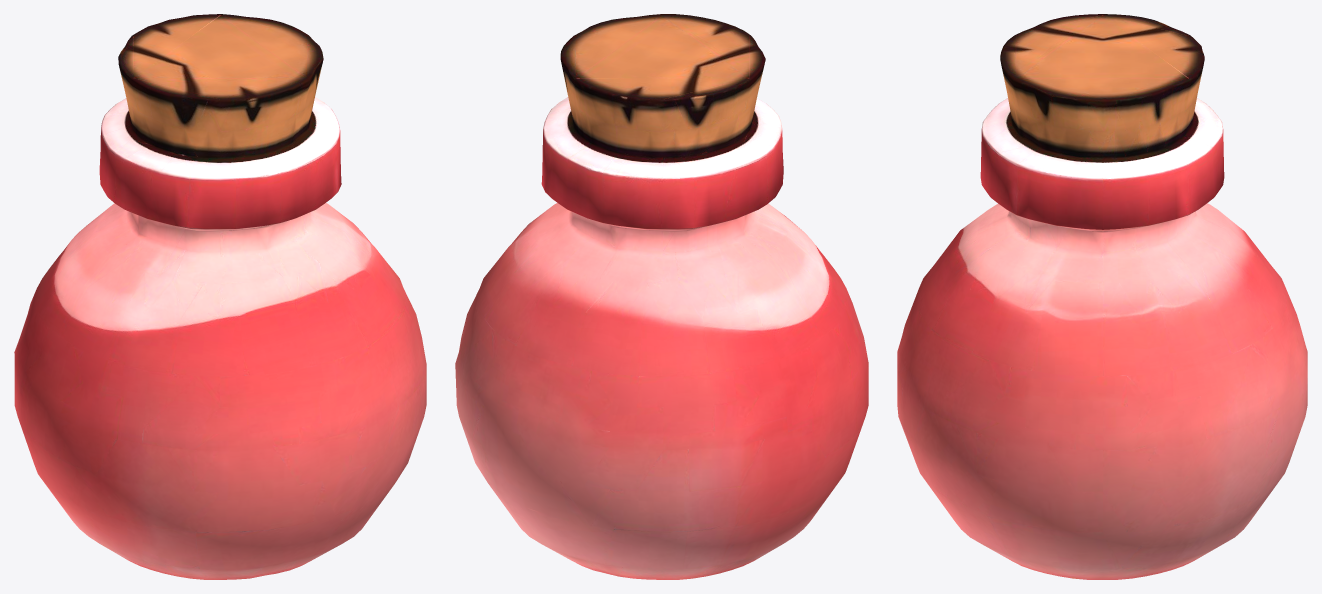
File: health-ld.glb
3 views of the same model, side by side, from view 1: azimuth 30°, elevation 25°; view 2: azimuth 150°, elevation 25°; view 3: azimuth 270°, elevation 25° (orthographic).
Bounding box in the file's own units: 1.48 × 1.9 × 1.48.
Materials: 1 (1 with a texture image).
